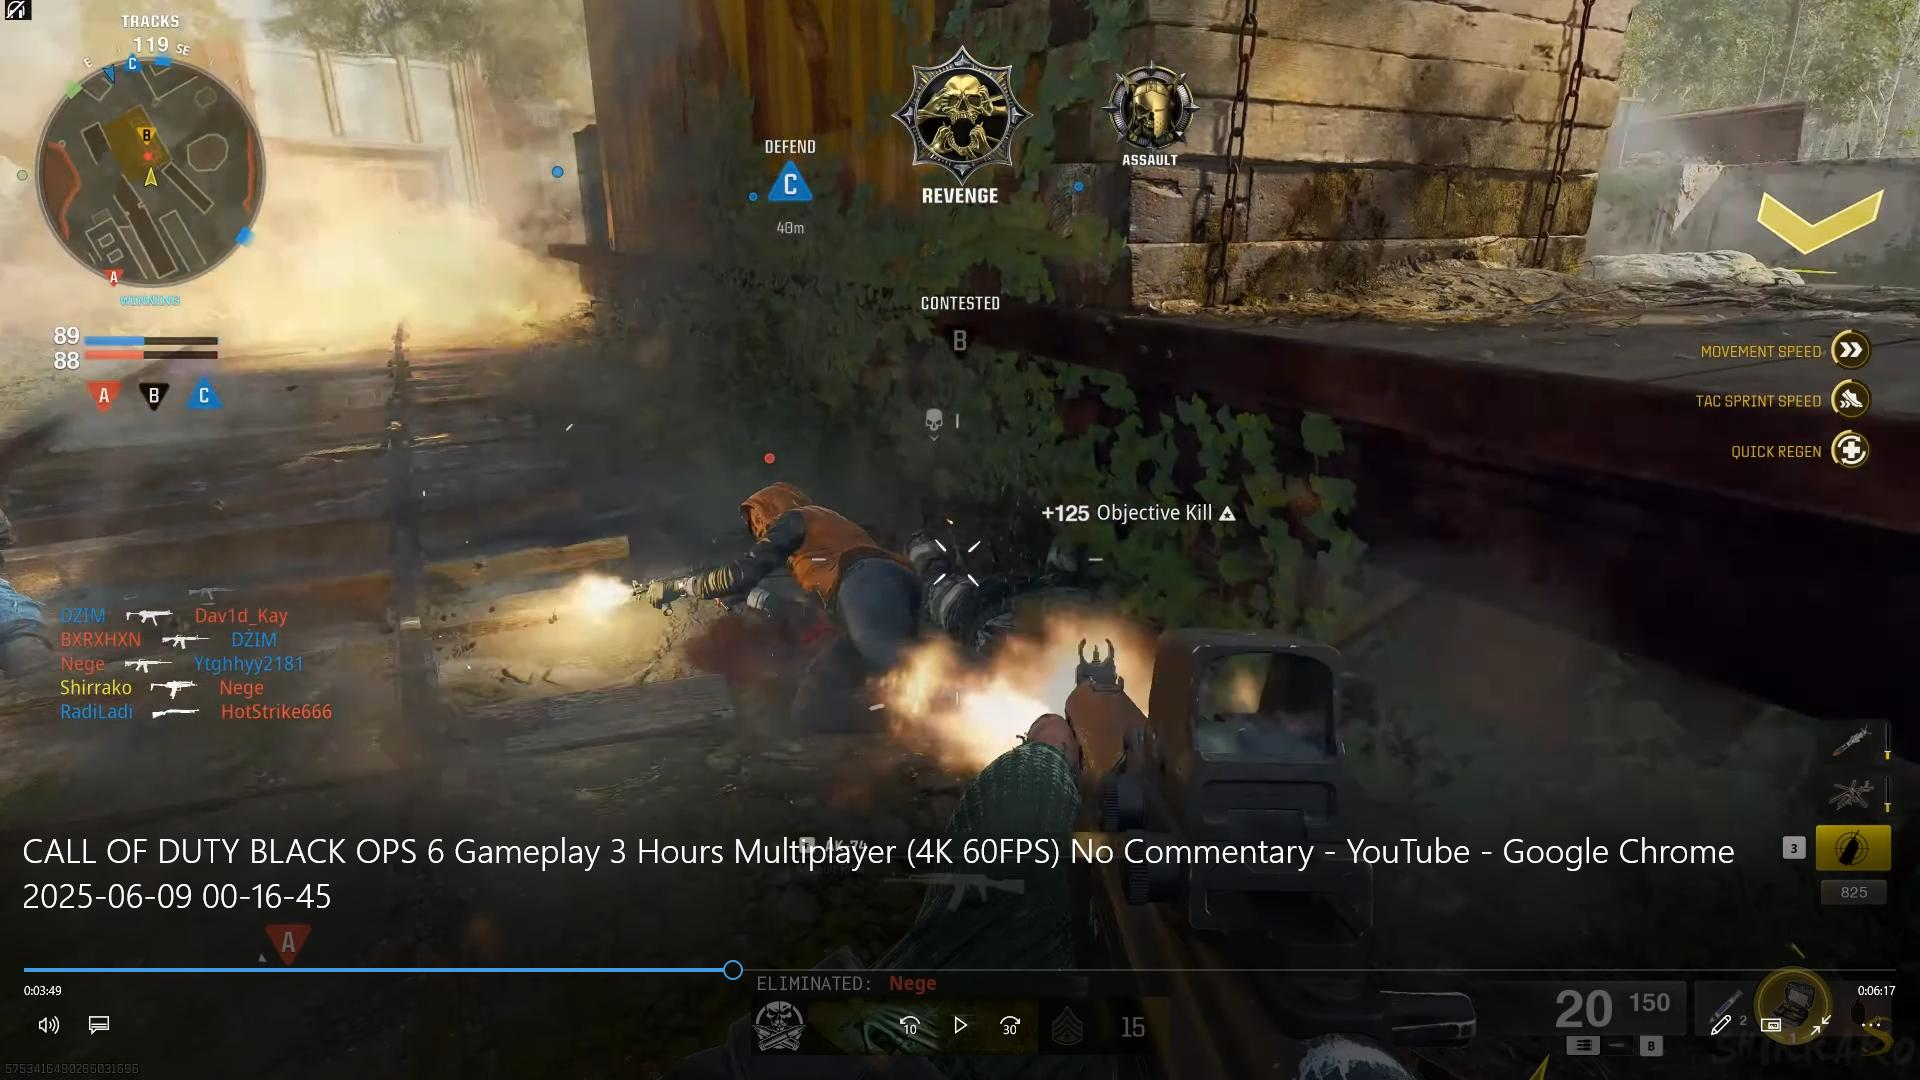Enemy: (731, 483, 932, 723)
